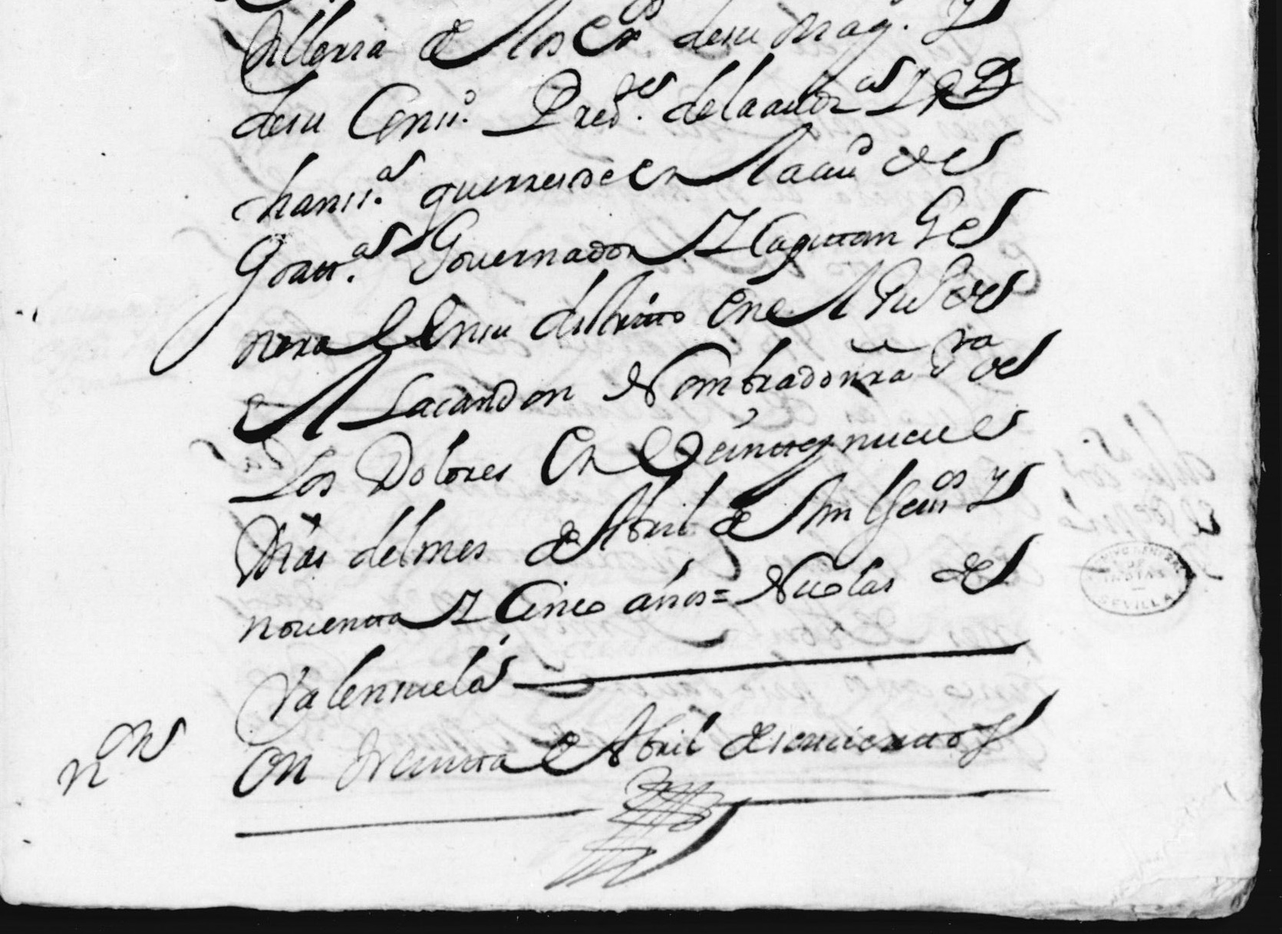lacandon: (337, 372, 575, 431)
